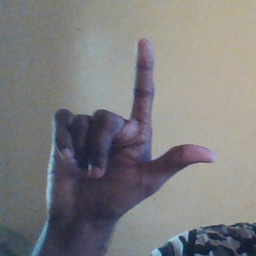L: (44, 36, 216, 215)
